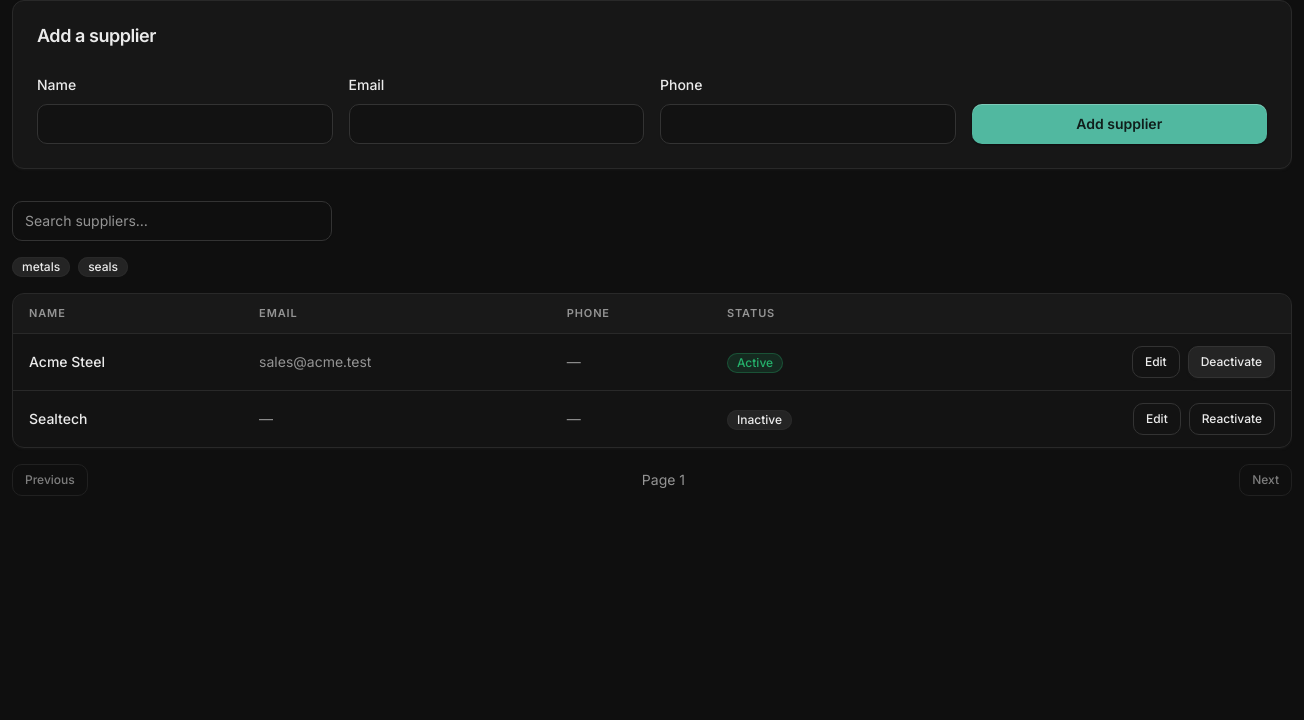
Scenario: SuppliersPanel edit and list flows › shows the create error from the server
This screenshot has width=1304, height=720.
Expected: the cell "Acme Steel" is shown, [13,334,243,390]
Type "Dup" into the field labelled "Name".
click(185, 124); type("Dup")  # box [37,104,332,144]
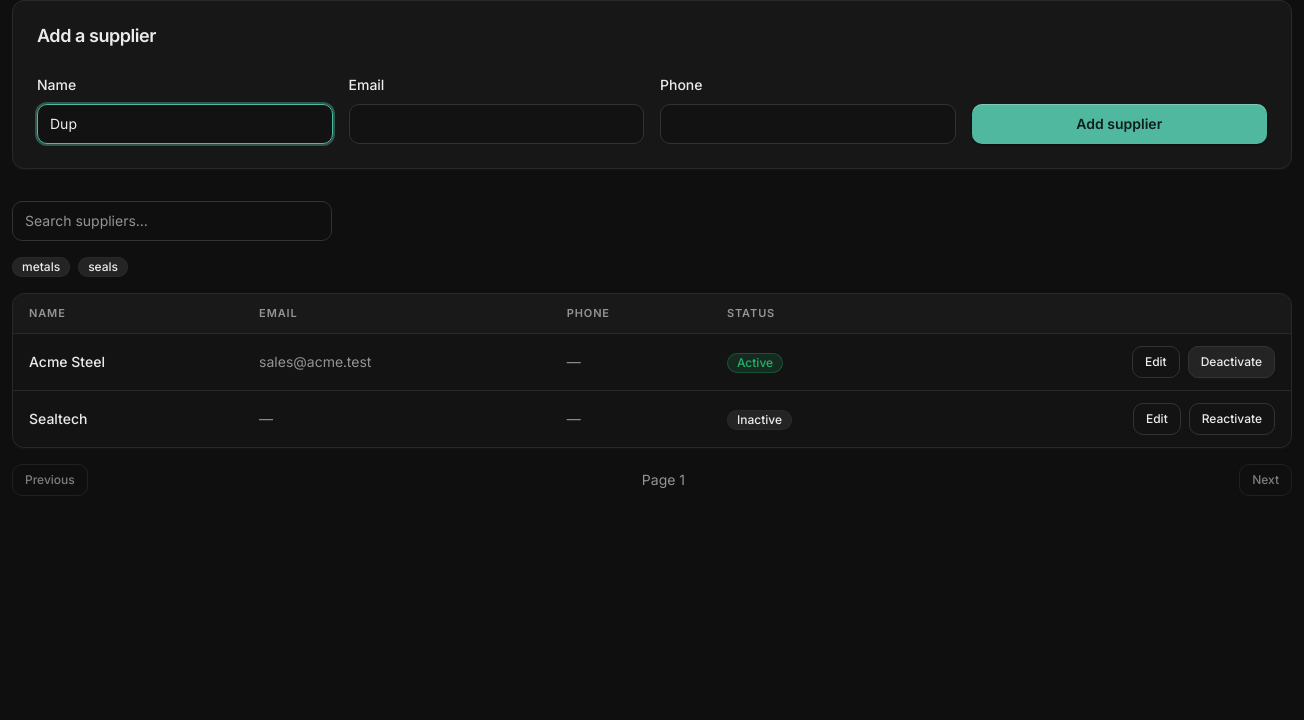
Type "a@b.test" into the field labelled "Email".
click(496, 124); type("a@b.test")  # box [348,104,644,144]
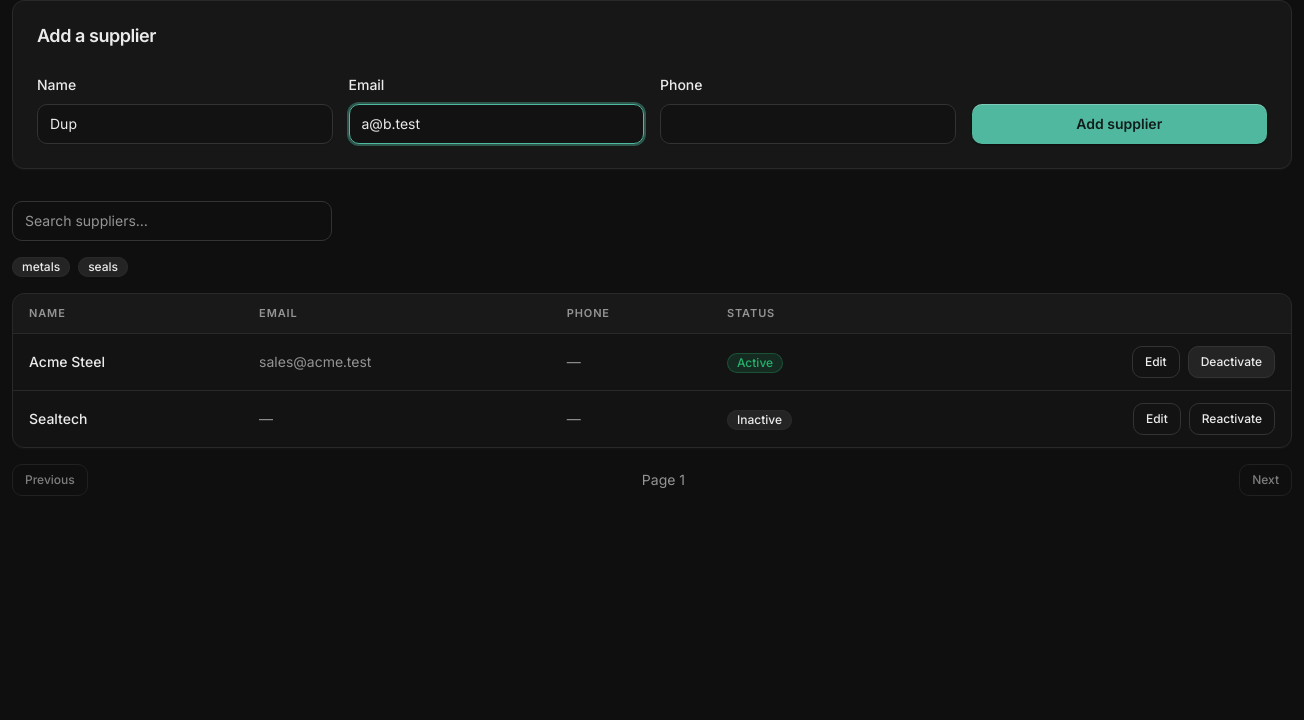
Type "123" into the field labelled "Phone".
click(808, 124); type("123")  # box [660,104,956,144]
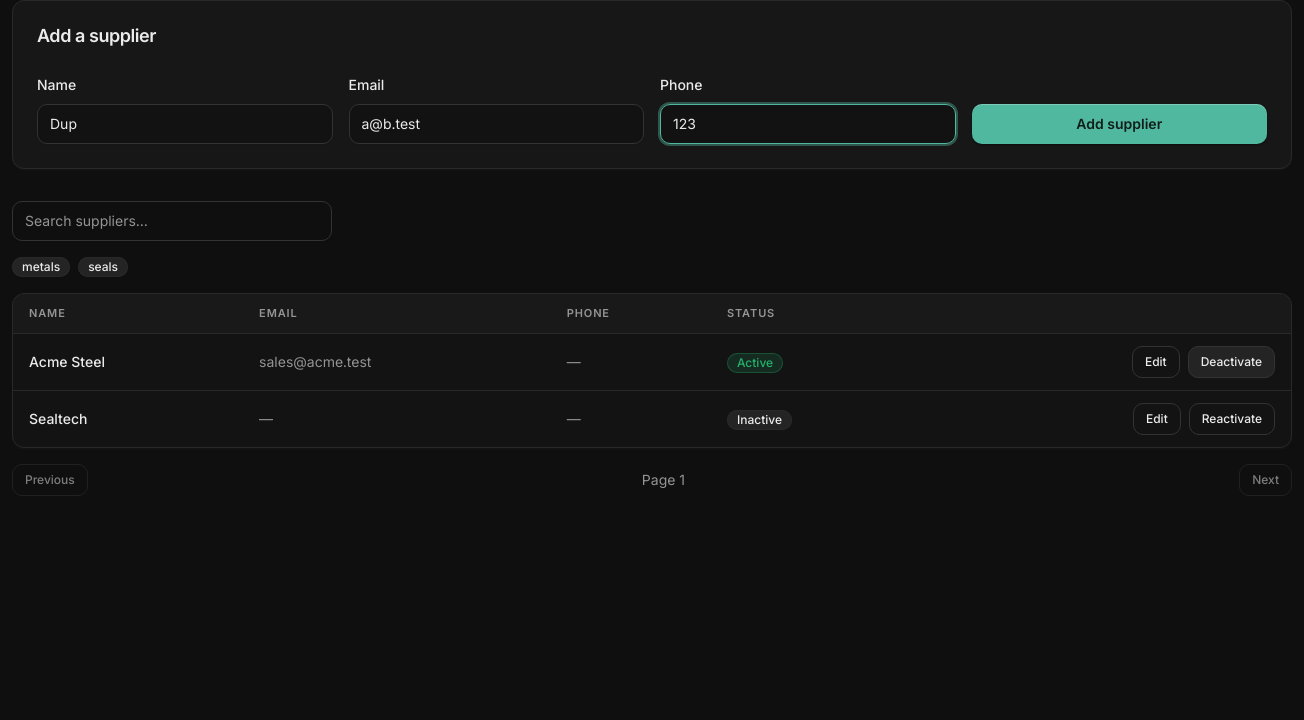
Click the button "Add supplier".
click(1119, 124)  # box [972,104,1267,144]
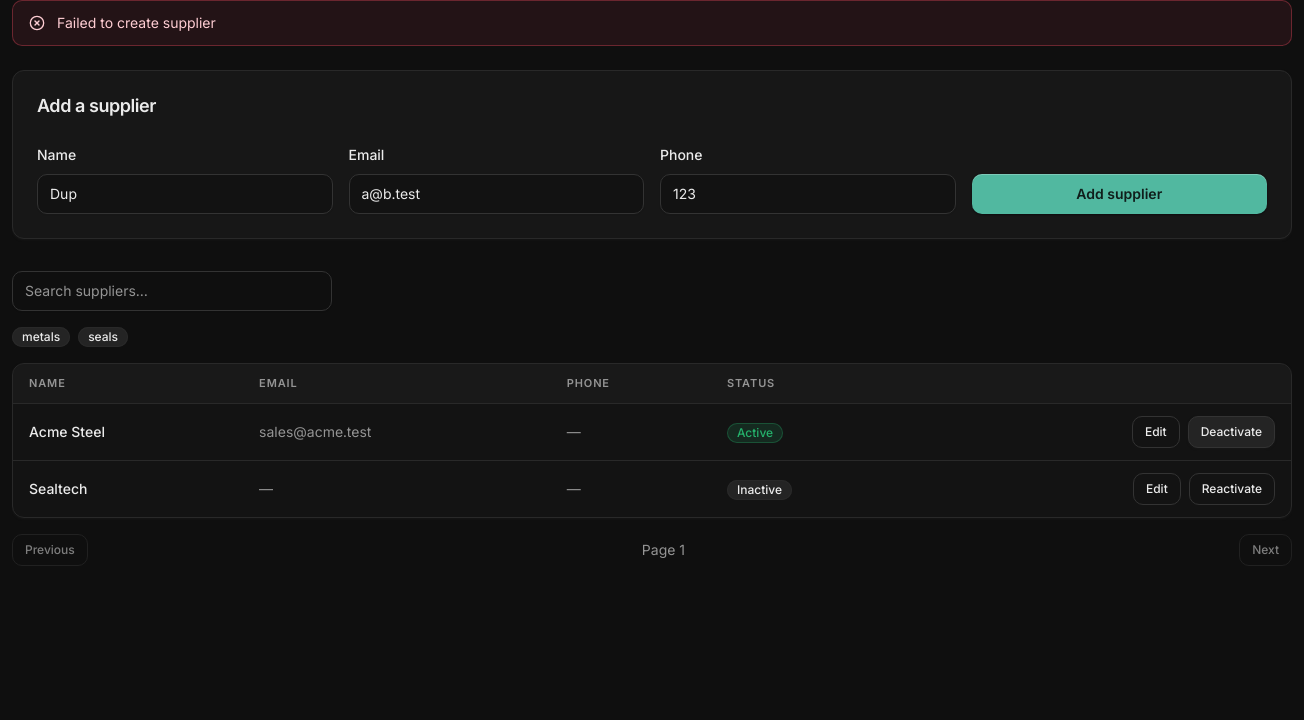
Result: the text "Failed to create supplier" is shown at [57,13,216,33]
